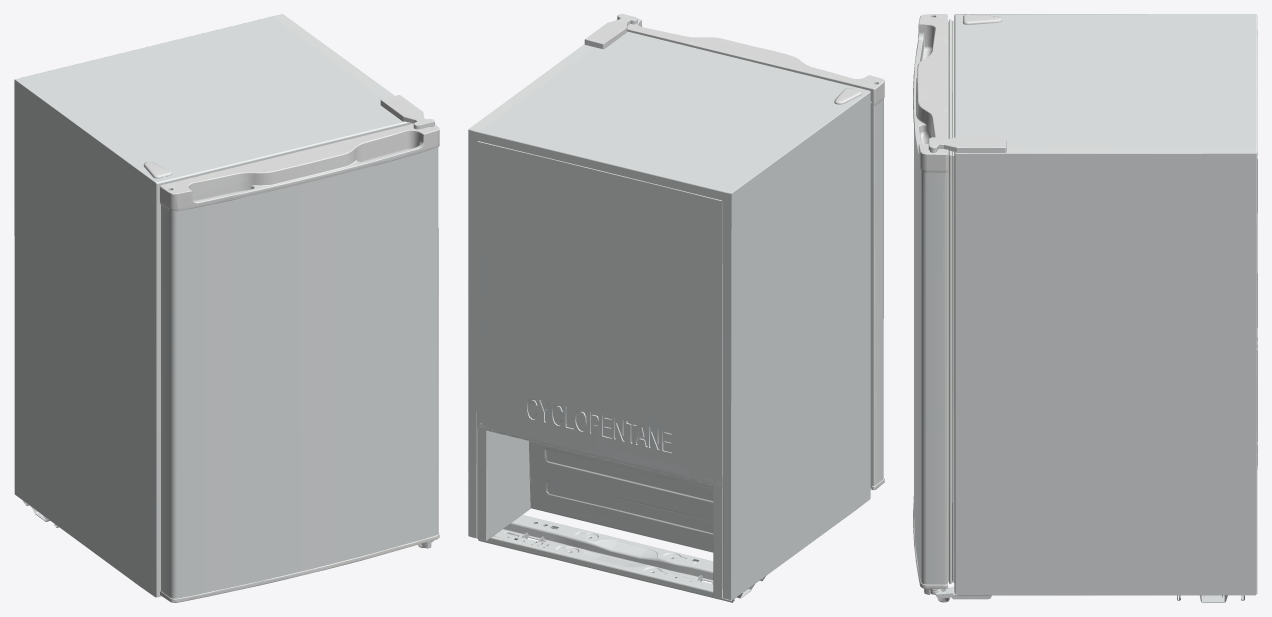
File: LAGAN Réfrigérateur av comp congélateur indépendant-blanc 97-16 l.glb
The picture shows the model from 3 angles, left to right: view 1: azimuth 30°, elevation 25°; view 2: azimuth 150°, elevation 25°; view 3: azimuth 270°, elevation 25°; orthographic projection. The views are drawn at different scales.
Visible parts, largest first — view 1: model; view 2: model; view 3: model.
Part boxes in pixels (x1,y1,x2,y2): model: [14, 14, 439, 602]; model: [468, 14, 884, 602]; model: [913, 14, 1257, 602].
Size of the model in its own units: 0.5489 by 0.8382 by 0.5695.
Materials: 2 (2 with a texture image).
